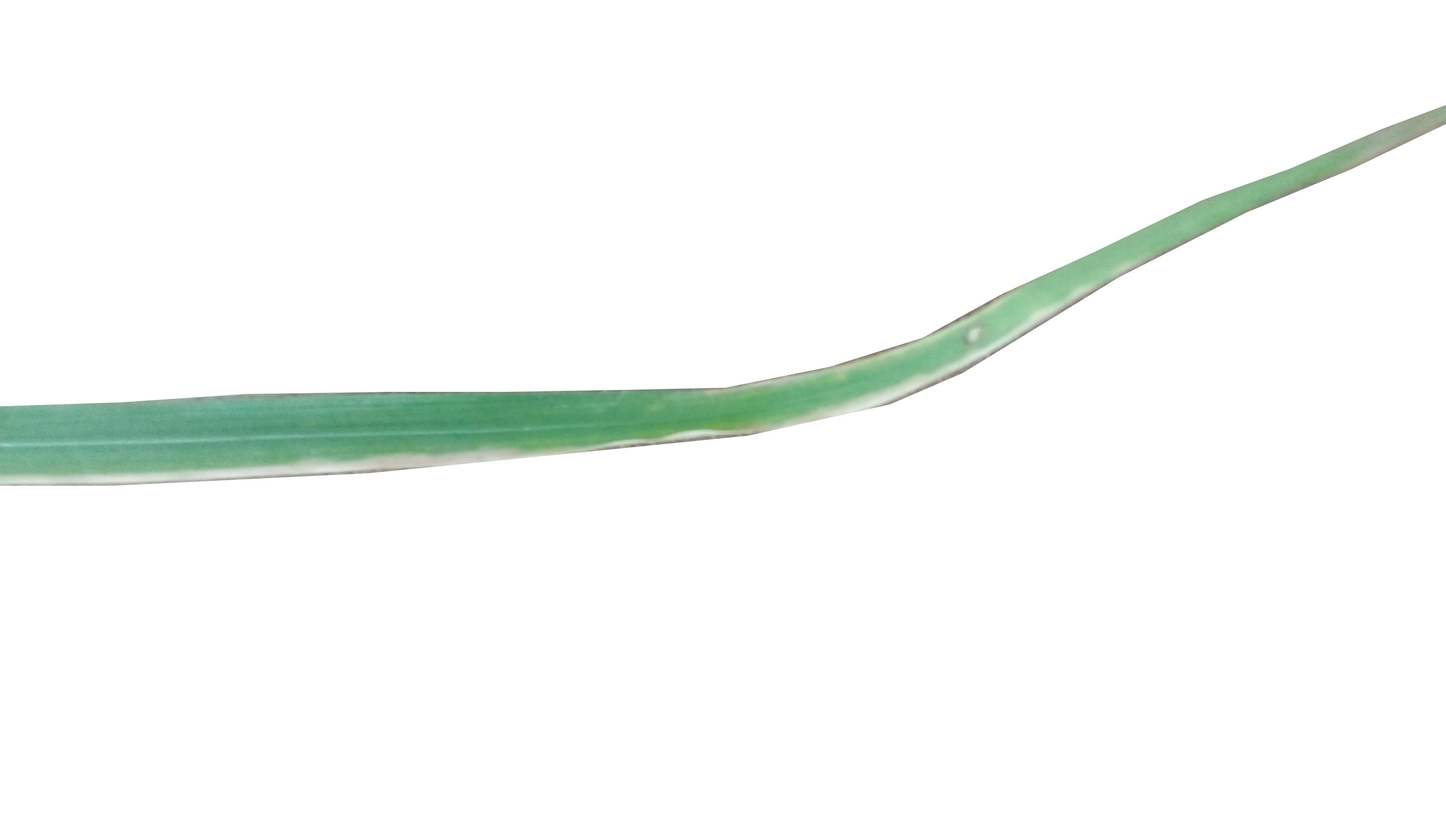Blight: (249, 453, 495, 471), (945, 328, 1031, 349)
Tungro: (1340, 108, 1446, 172)
